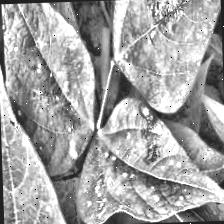Bean Rust: (75, 92, 220, 224), (0, 1, 97, 171), (107, 0, 224, 116), (0, 56, 70, 224)
